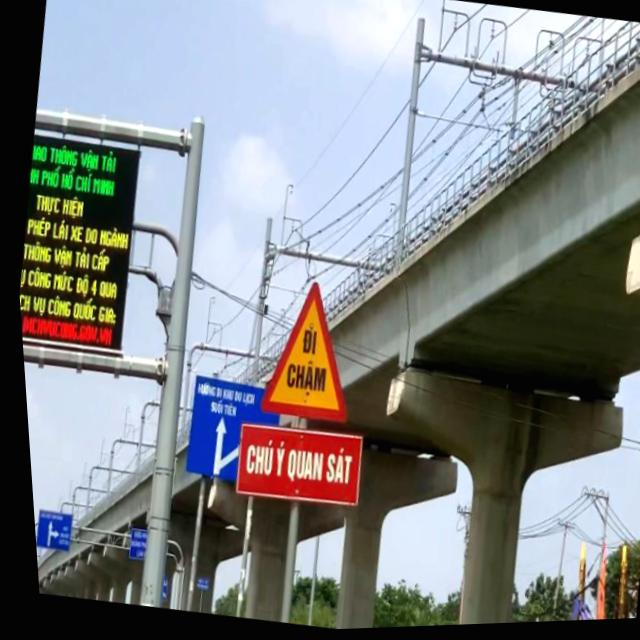Di cham: (243, 270, 366, 437)
